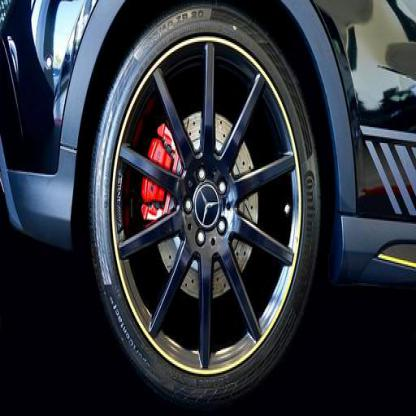Tire: (86, 4, 322, 408)
